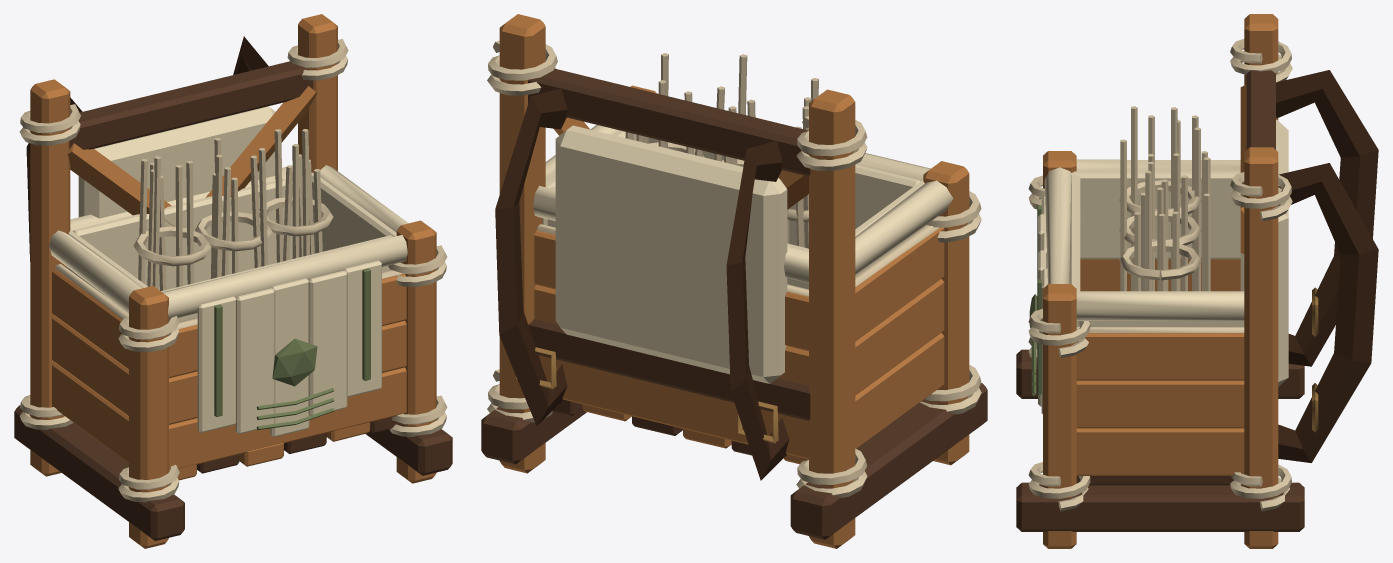
File: prop_trade_pack_flax_a.glb
3 views of the same model, side by side, from view 1: azimuth 30°, elevation 25°; view 2: azimuth 150°, elevation 25°; view 3: azimuth 270°, elevation 25° (orthographic). The views are drawn at different scales.
Parts seen in each view (by area): view 1: prop_trade_pack_flax_a_LOD0; view 2: prop_trade_pack_flax_a_LOD0; view 3: prop_trade_pack_flax_a_LOD0.
Boxes of the visible parts, <box> form: prop_trade_pack_flax_a_LOD0: <box>14,14,452,548</box>; prop_trade_pack_flax_a_LOD0: <box>481,14,987,548</box>; prop_trade_pack_flax_a_LOD0: <box>1016,14,1378,548</box>.
Size of what is drawn, in the model's own units: 0.8384 by 0.96 by 0.8041.
